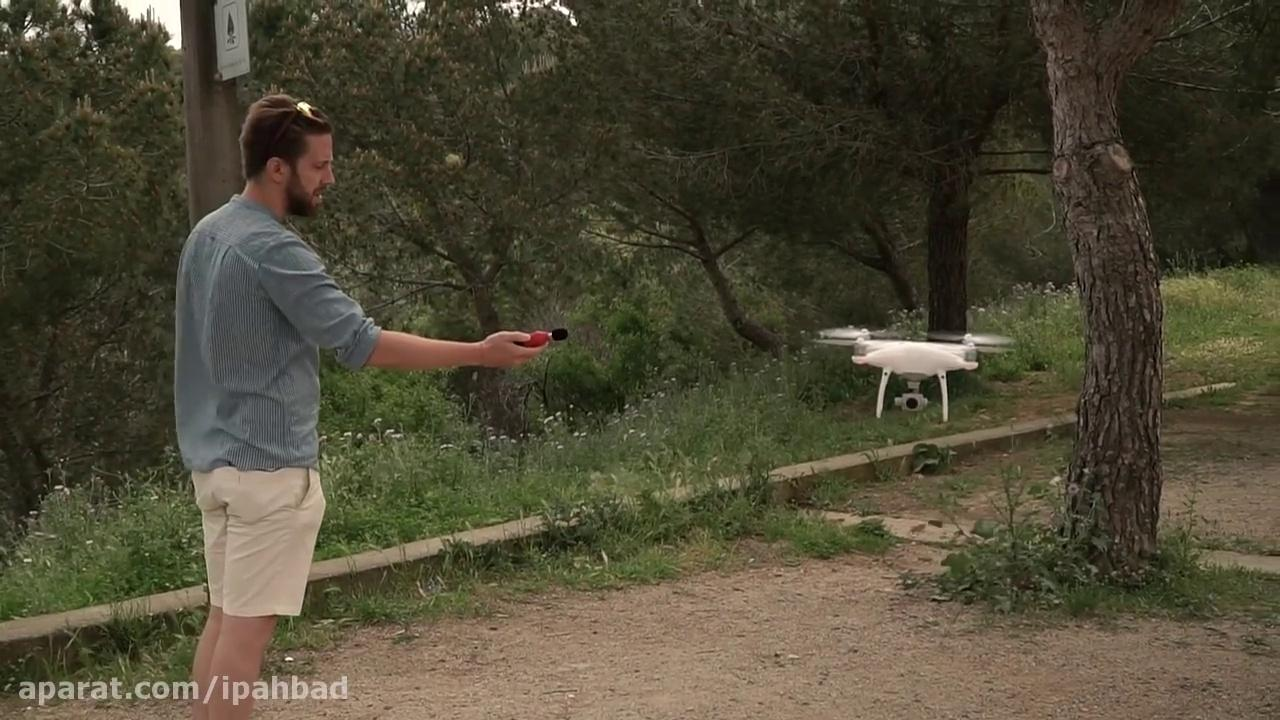drone: (809, 322, 1017, 422)
